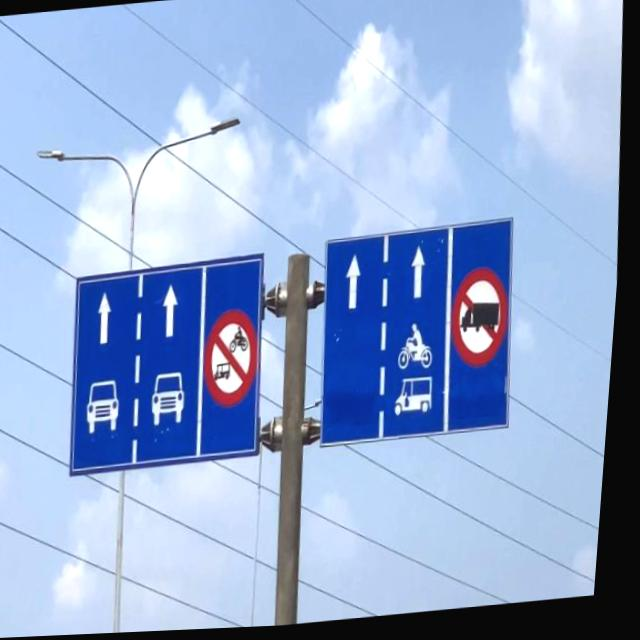Cam xe tai: (449, 269, 519, 379)
